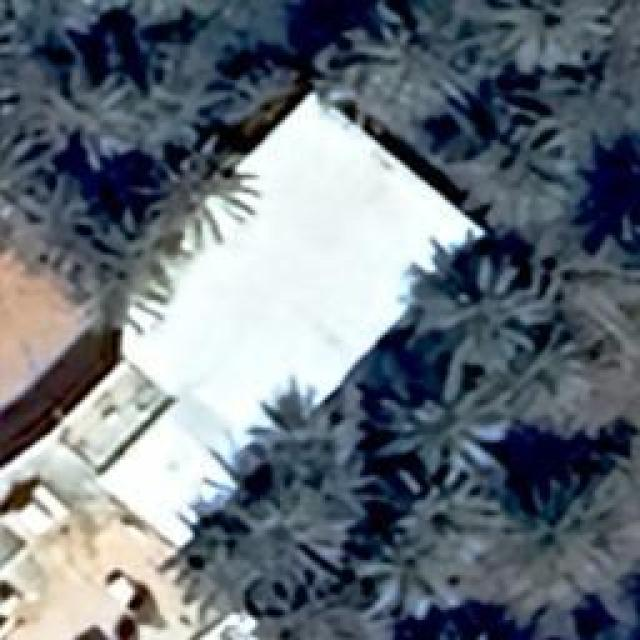PalmTree: (128, 118, 281, 548), (139, 36, 544, 118), (325, 7, 490, 125), (398, 250, 552, 372), (484, 472, 618, 590), (378, 377, 500, 485), (93, 39, 207, 149), (137, 140, 260, 240), (63, 211, 171, 324), (201, 46, 311, 142), (250, 388, 356, 486), (352, 530, 460, 620), (505, 75, 613, 163), (46, 58, 136, 162), (64, 252, 171, 336), (0, 120, 55, 222), (5, 0, 105, 48), (192, 0, 312, 40), (129, 605, 253, 640), (404, 612, 547, 640), (99, 0, 216, 25)
